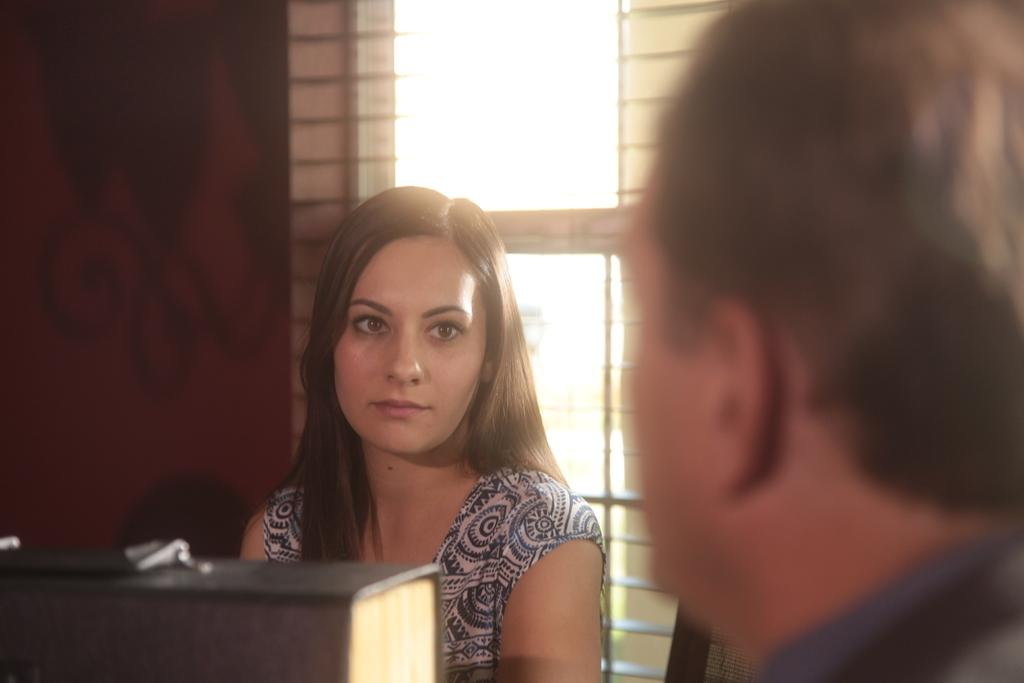Sem Máscara: (622, 185, 722, 577), (331, 237, 489, 440)
